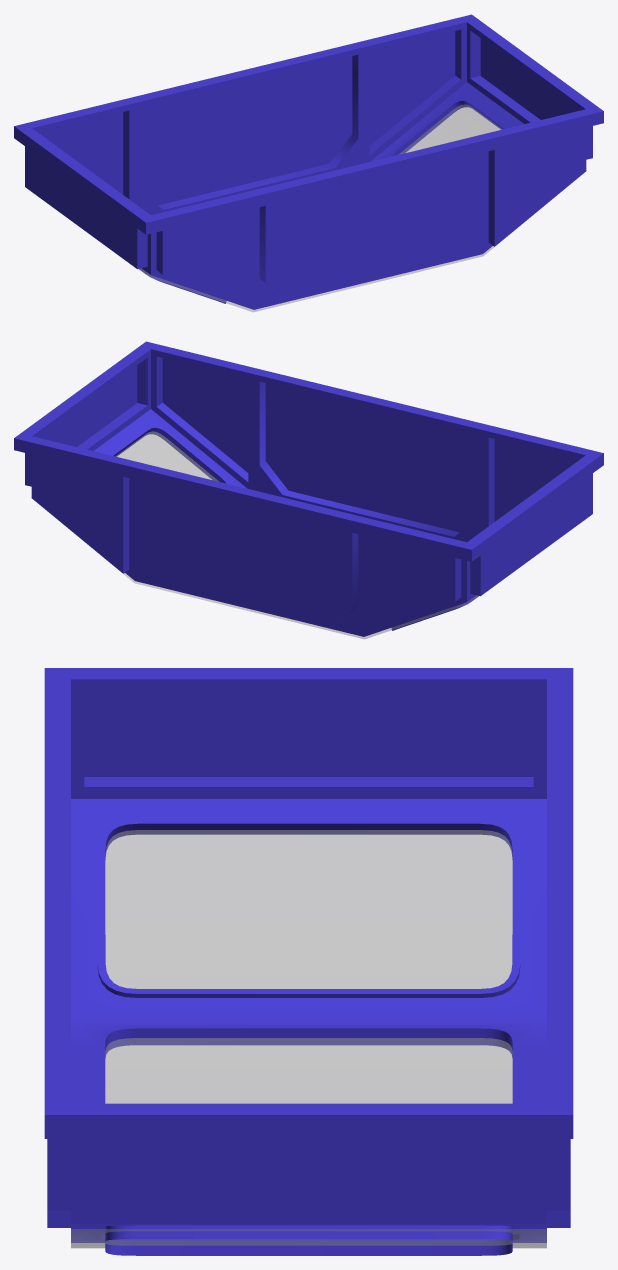
Rendered from Ceiling_A_4x2m_B.FBX.
3 renders of one model, top to bottom at view 1: azimuth 30°, elevation 25°; view 2: azimuth 150°, elevation 25°; view 3: azimuth 270°, elevation 25°, orthographic. The views are drawn at different scales.
Visible parts, largest first — view 1: Ceiling_A_4x2m_B; view 2: Ceiling_A_4x2m_B; view 3: Ceiling_A_4x2m_B.
Part boxes in pixels (box(x1,y1,x2,y2)): Ceiling_A_4x2m_B: box(14, 14, 603, 312); Ceiling_A_4x2m_B: box(14, 341, 603, 639); Ceiling_A_4x2m_B: box(44, 668, 573, 1255).
Size of the model in its own units: 400 by 105 by 200.
